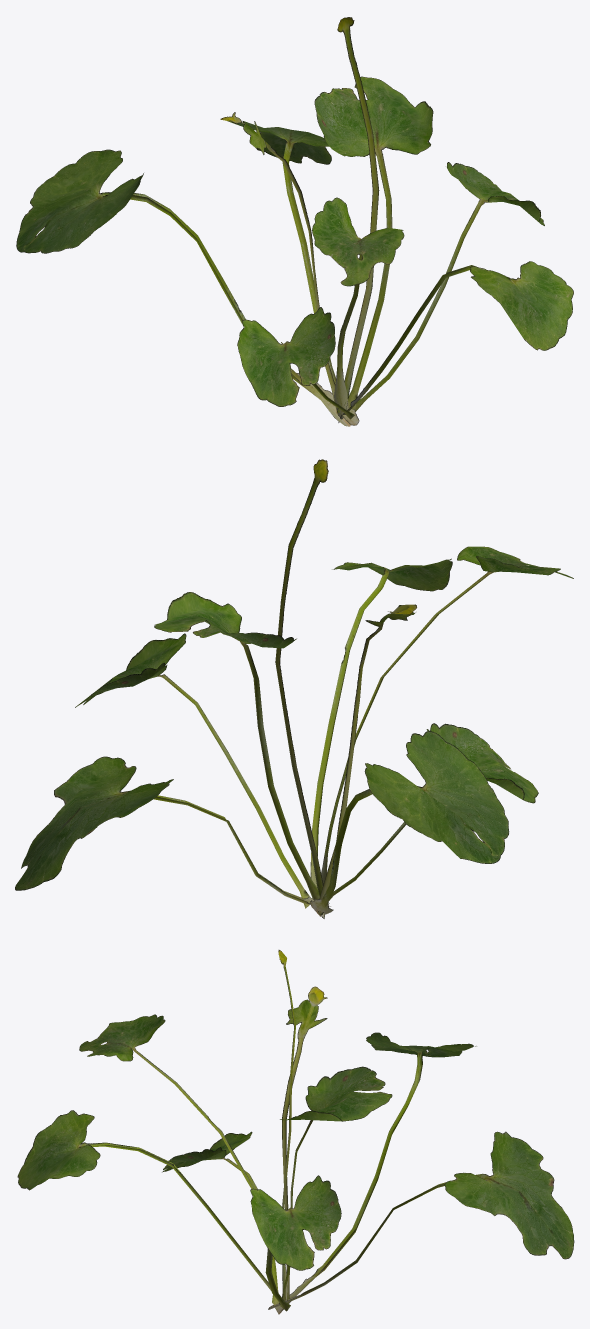
Rendered from celandine_01_b.fbx.
3 views of the same model, one above another, from view 1: azimuth 30°, elevation 25°; view 2: azimuth 150°, elevation 25°; view 3: azimuth 270°, elevation 25° (orthographic). The views are drawn at different scales.
Visible parts, largest first — view 1: celandine_01_b; view 2: celandine_01_b; view 3: celandine_01_b.
Part boxes in pixels (x1,y1,x2,y2): celandine_01_b: [16, 17, 573, 426]; celandine_01_b: [15, 459, 573, 918]; celandine_01_b: [17, 950, 574, 1314].
Bounding box in the file's own units: 0.2517 × 0.22 × 0.3067.
Materials: 1 (1 with a texture image).
